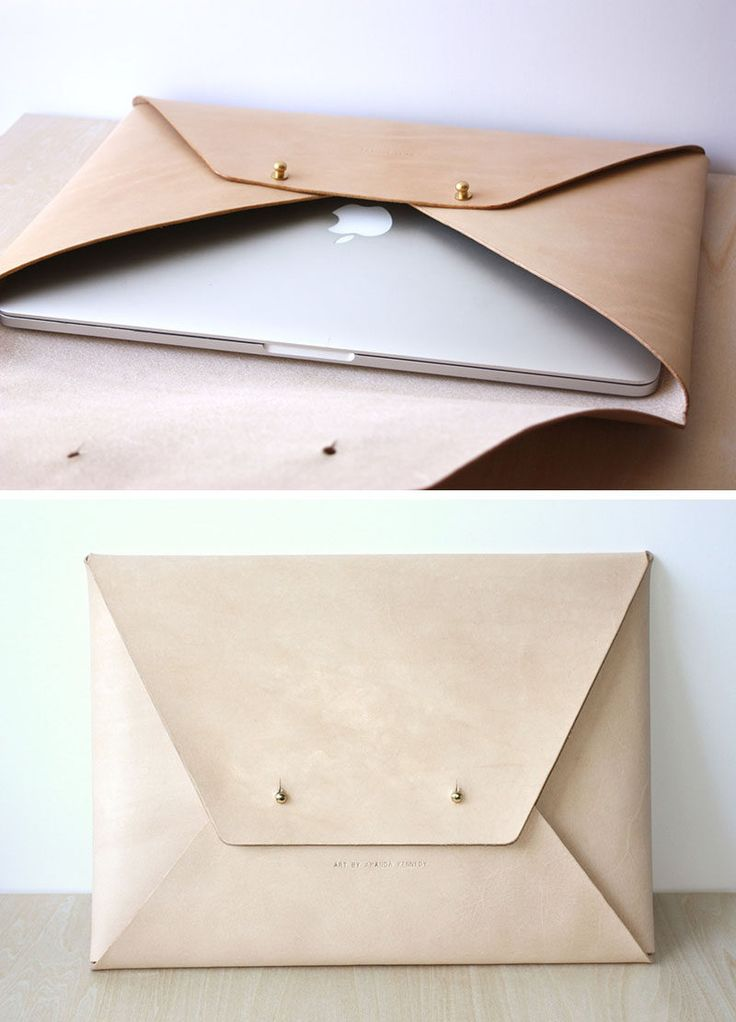cuero: (1, 96, 708, 966)
